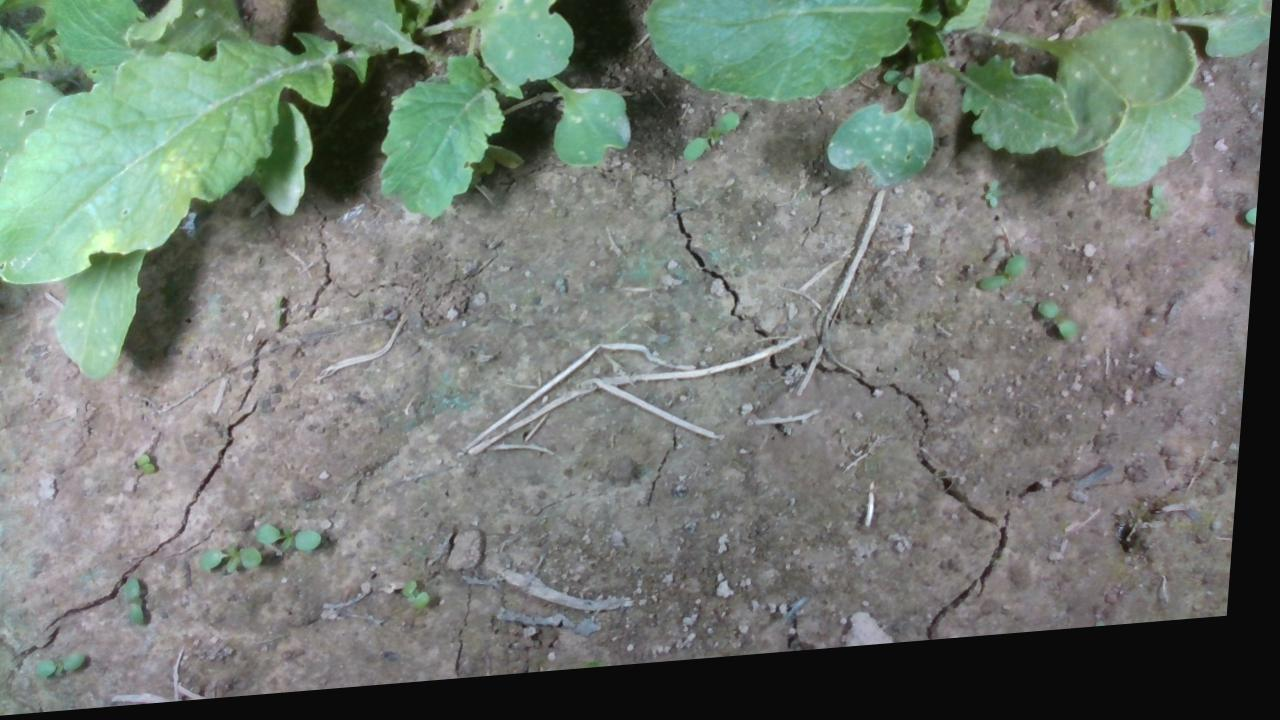weed: (683, 123, 742, 174), (1039, 313, 1088, 366), (980, 271, 1032, 310), (39, 649, 96, 683), (407, 583, 441, 620), (132, 578, 157, 628), (1150, 202, 1169, 243), (139, 454, 163, 480), (983, 206, 1003, 226)
